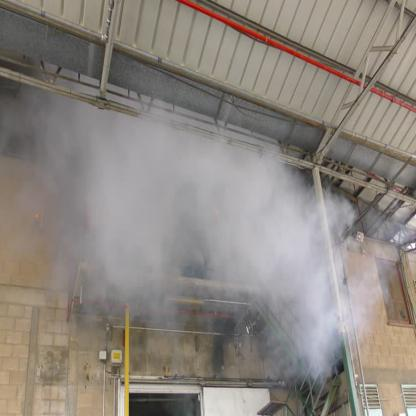smoke: (55, 144, 328, 316)
